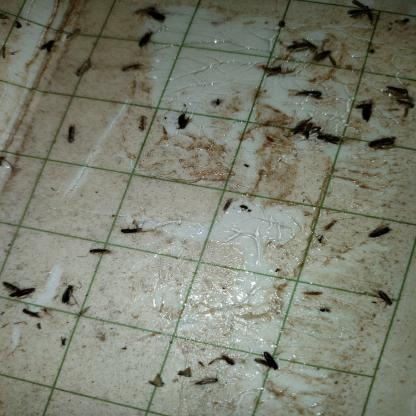prays_oleae: (250, 347, 288, 382), (56, 270, 82, 319), (344, 0, 386, 27), (368, 282, 402, 315), (117, 209, 148, 244), (2, 278, 42, 302), (88, 240, 122, 267), (67, 56, 99, 82), (366, 223, 396, 240), (120, 59, 146, 78), (131, 30, 159, 47), (174, 109, 192, 133), (62, 122, 80, 146), (21, 307, 44, 323)
